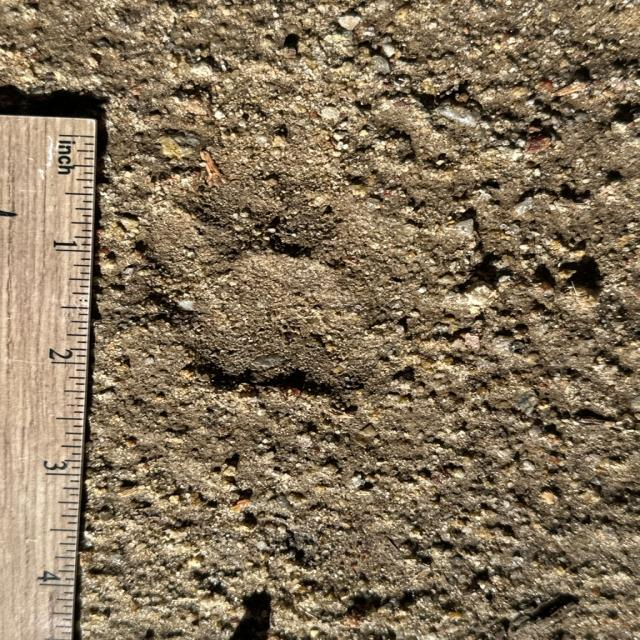felid: (143, 146, 452, 392)
